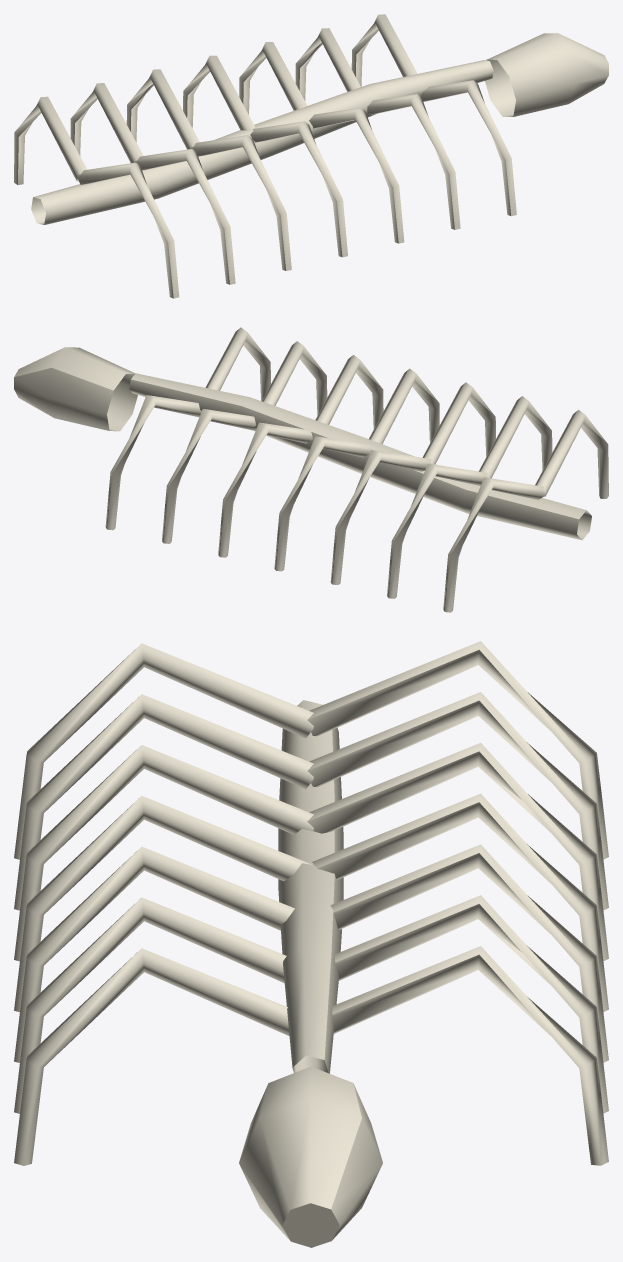
Rendered from bones.glb.
3 renders of one model, top to bottom at view 1: azimuth 30°, elevation 25°; view 2: azimuth 150°, elevation 25°; view 3: azimuth 270°, elevation 25°, orthographic. The views are drawn at different scales.
Visible parts, largest first — view 1: bones; view 2: bones; view 3: bones.
Boxes of the visible parts, x1,y1,x2,y2 form: bones: [14, 14, 608, 298]; bones: [14, 327, 608, 612]; bones: [14, 641, 608, 1247].
Size of the model in its own units: 5.03 by 0.9586 by 2.47.
